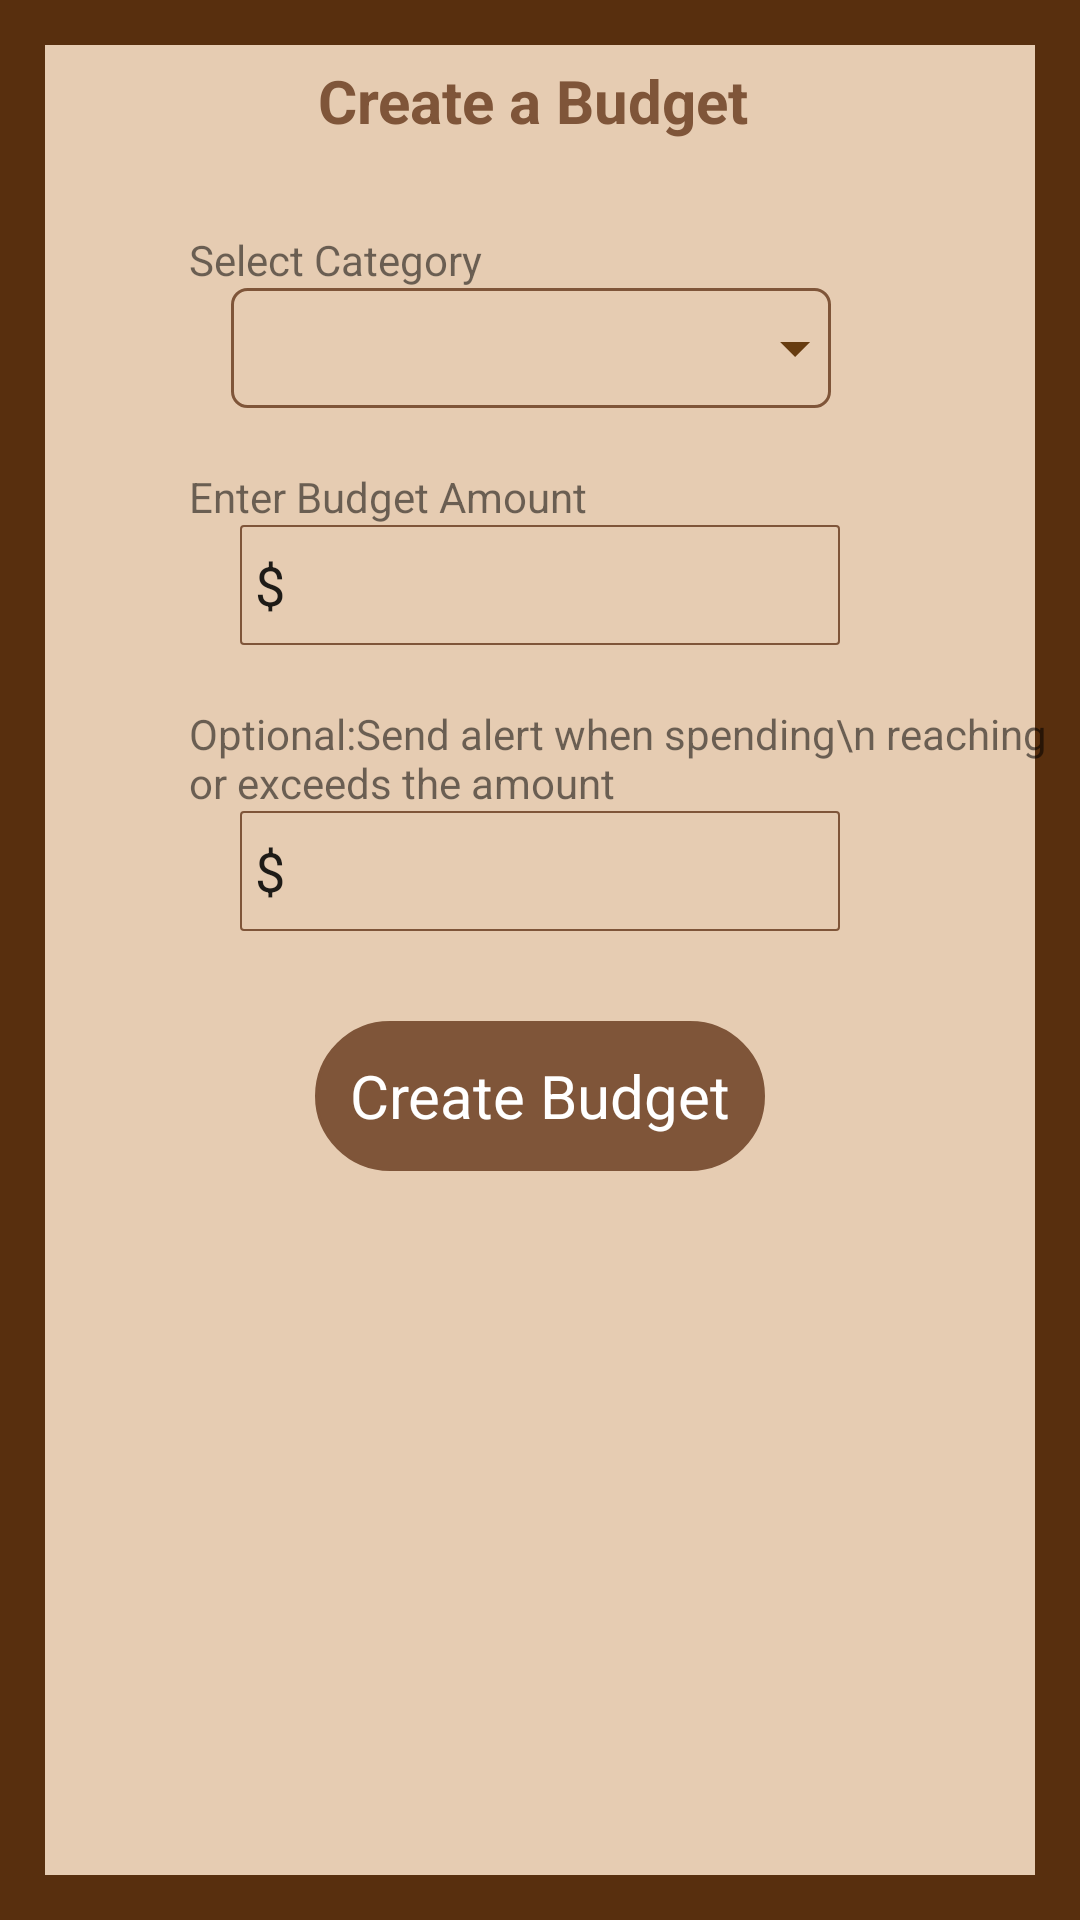

Where to tap for icons on this 1080px×1920px app screen, as [x,y]:
drop: [795,349]
